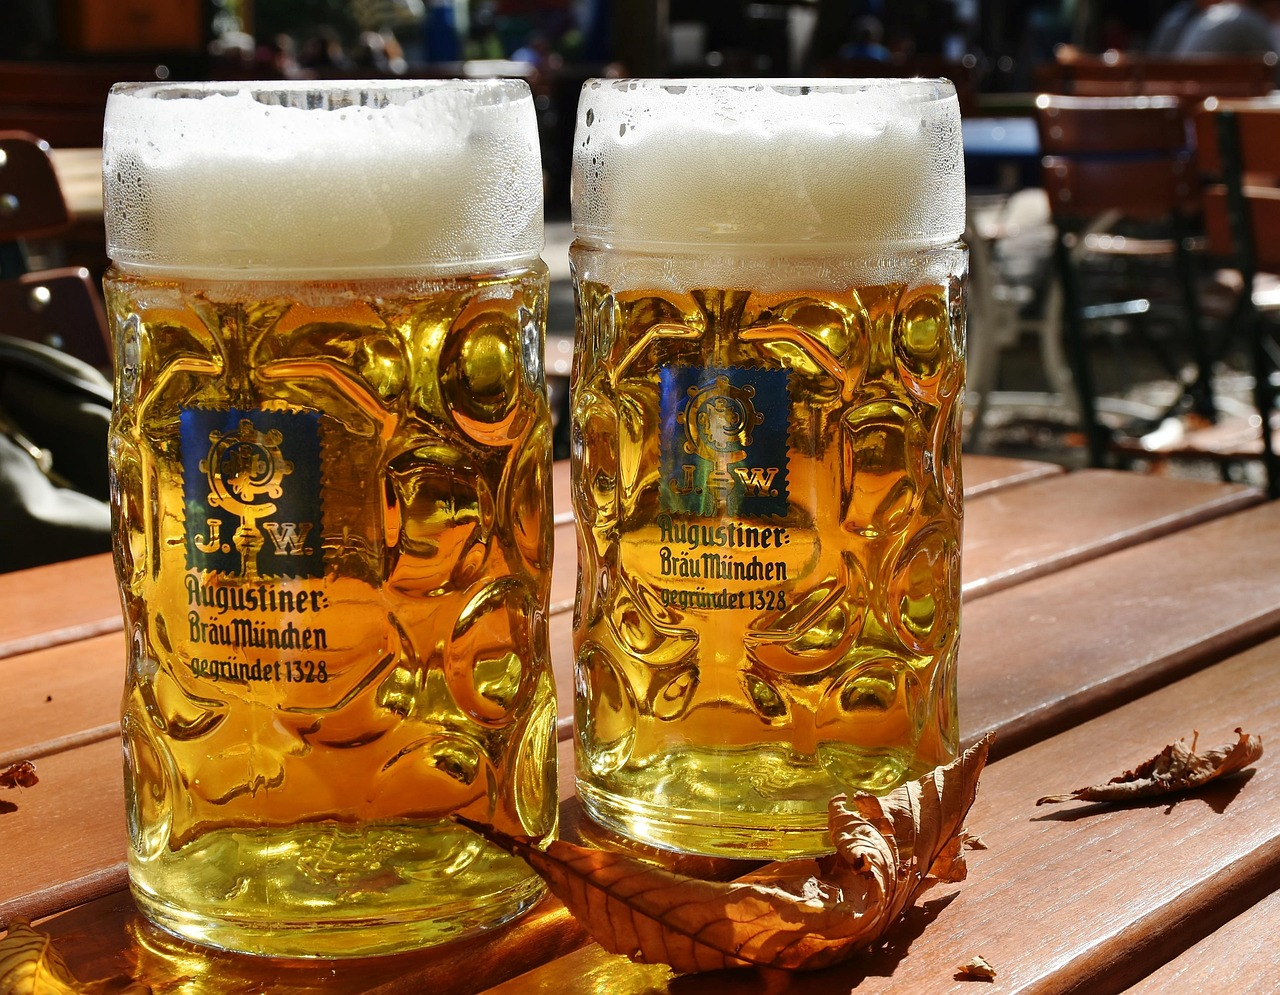mug: (559, 55, 1082, 951)
